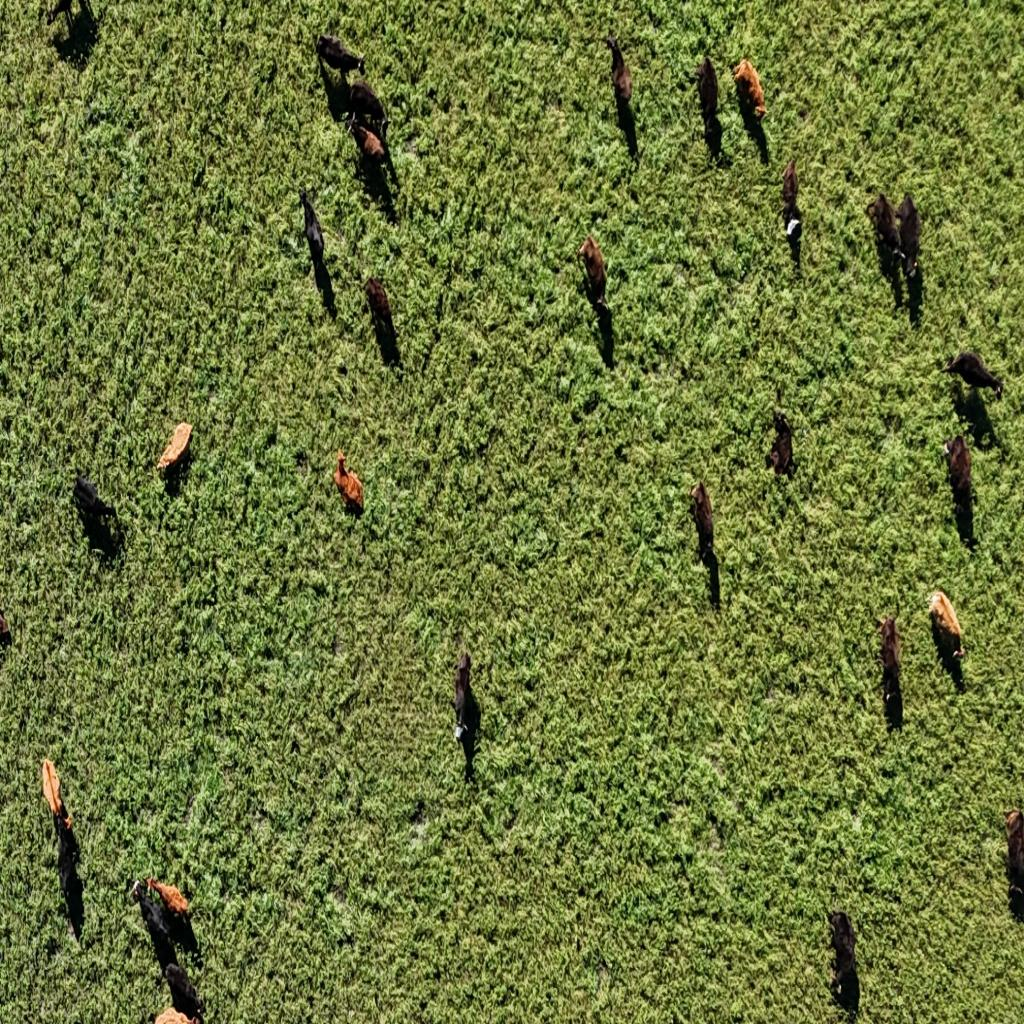cow: (130, 876, 180, 973), (942, 425, 976, 526), (55, 818, 83, 939), (828, 909, 860, 1011), (865, 193, 907, 269), (364, 273, 398, 362), (942, 350, 1004, 398), (72, 474, 119, 536), (876, 610, 904, 709), (605, 33, 635, 123), (349, 110, 389, 177), (162, 962, 206, 1022), (346, 78, 390, 136), (895, 191, 922, 280), (1001, 806, 1024, 910), (688, 478, 715, 566), (576, 235, 608, 309), (731, 56, 767, 120), (315, 31, 366, 76), (157, 422, 193, 484), (697, 55, 721, 147), (779, 155, 802, 251), (47, 0, 94, 46), (41, 758, 71, 830), (147, 875, 192, 920), (300, 188, 324, 268), (454, 653, 475, 742), (333, 448, 363, 510), (768, 413, 794, 477), (0, 609, 12, 648), (296, 446, 308, 468)
